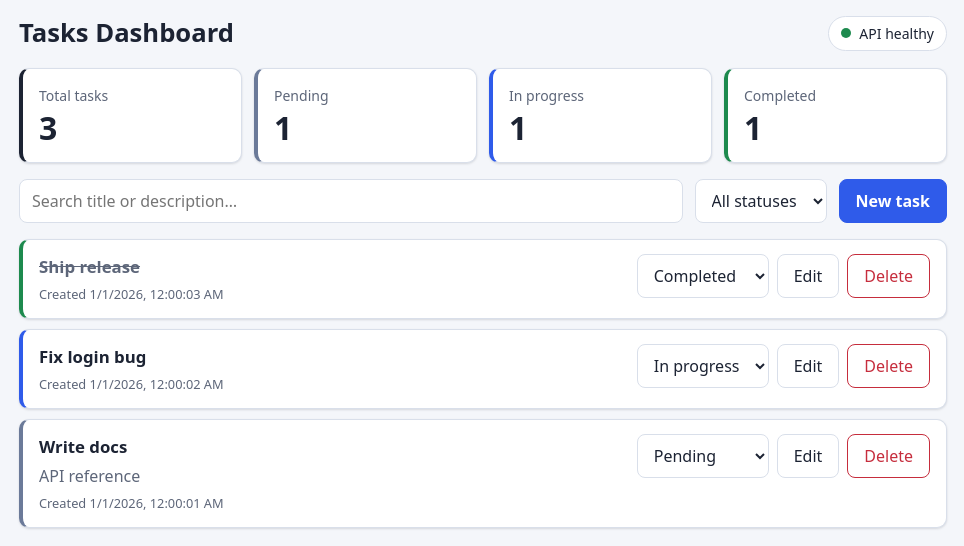
Scenario: search and filter › combines search and status filter and shows a no-match message
The width and height of the screenshot is (964, 546).
Expected: the heading "Write docs" is shown, [39, 435, 127, 458]
Select "Completed" in the 1st dropdown named "Filter by status": (760, 201) [694, 179, 826, 223]
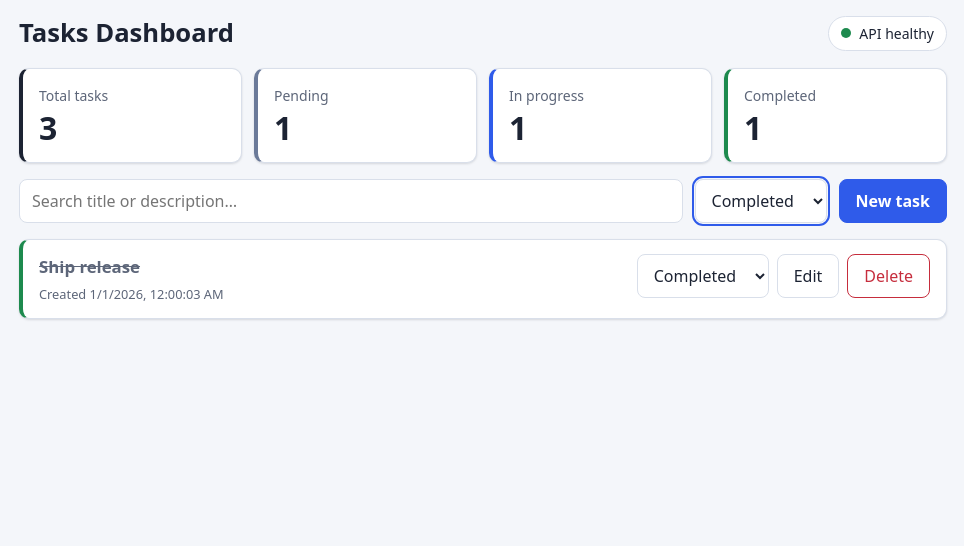
In the search field named "Search tasks": (351, 201) [19, 179, 682, 223], type "login"
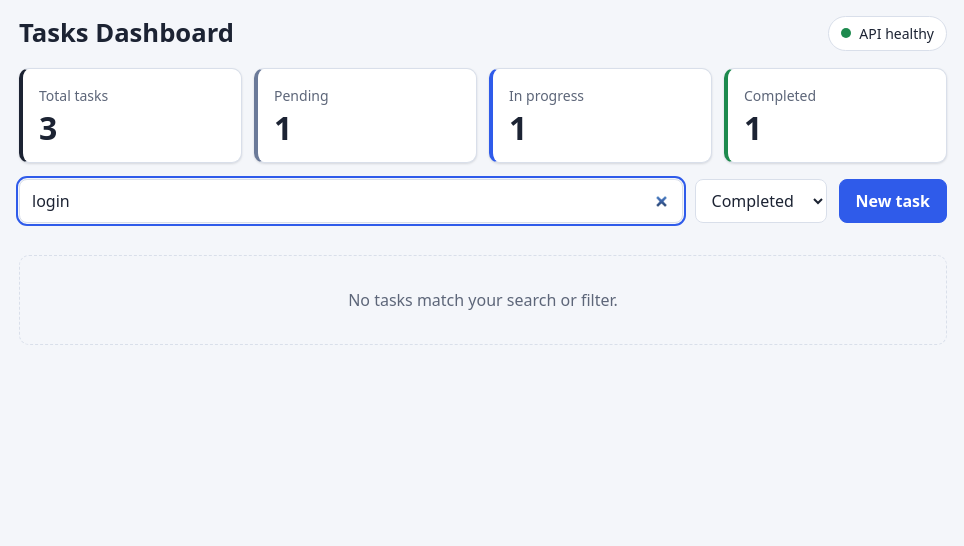
Result: the text "No tasks match your search or filter." is shown at [19, 255, 947, 345]
